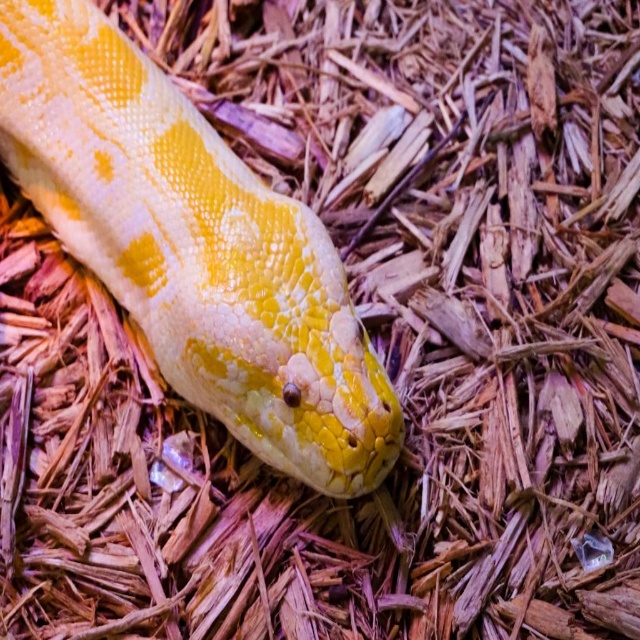Snake: (0, 0, 406, 499)
